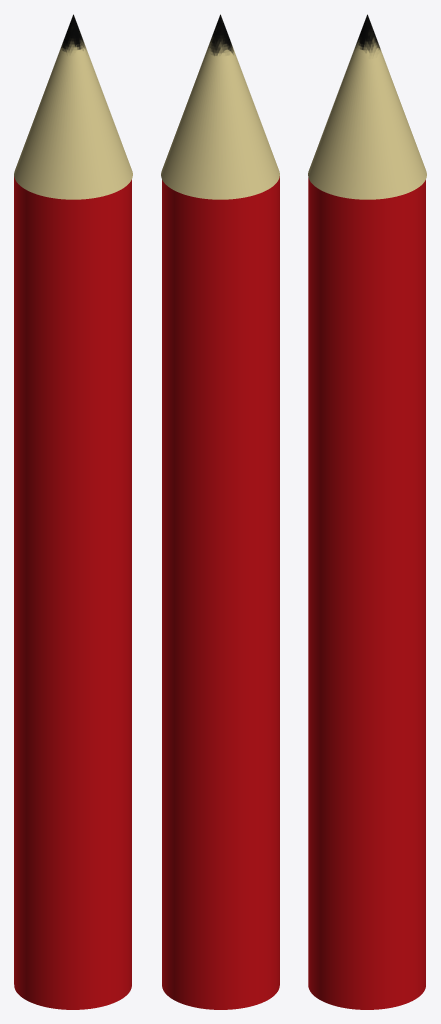
Rendered from low poly Pencil.glb.
3 views of the same model, side by side, from view 1: azimuth 30°, elevation 25°; view 2: azimuth 210°, elevation 25°; view 3: azimuth 330°, elevation 25° (orthographic).
Visible parts, largest first — view 1: mesh_id27, mesh_id29; view 2: mesh_id27, mesh_id29; view 3: mesh_id27, mesh_id29.
Boxes of the visible parts, x1,y1,x2,y2 form: mesh_id27: (14,176,131,1009); mesh_id29: (14,14,132,199); mesh_id27: (162,176,279,1009); mesh_id29: (161,14,279,199); mesh_id27: (308,178,425,1009); mesh_id29: (308,14,426,199).
Bounding box in the file's own units: 0.0381 × 0.3428 × 0.038.
2 materials, 2 textured.
